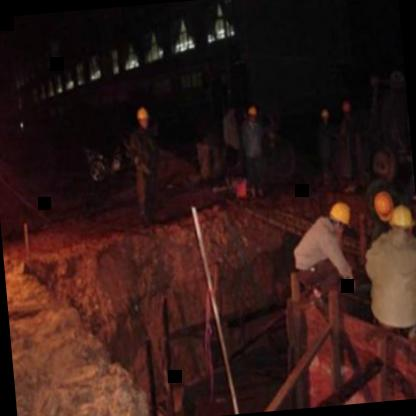helmet: (327, 196, 353, 237), (386, 201, 416, 236), (371, 189, 396, 226), (134, 104, 154, 130)
